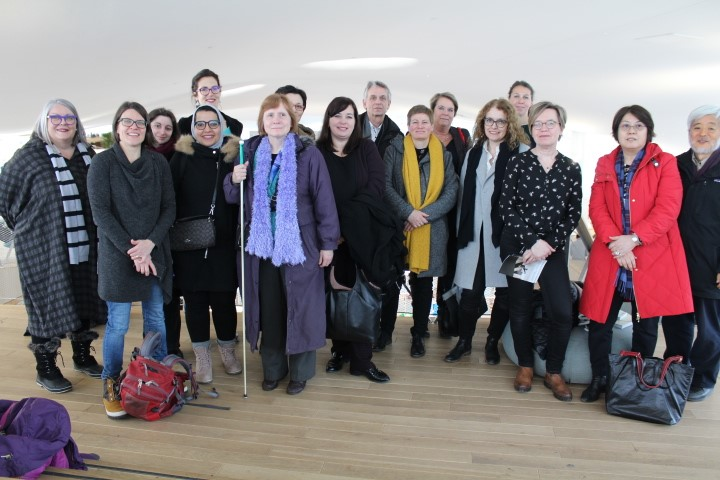person: (584, 98, 688, 421), (4, 93, 106, 390), (237, 95, 329, 398), (167, 105, 251, 393), (316, 92, 397, 390), (508, 99, 578, 400), (99, 103, 155, 399), (397, 104, 443, 361), (466, 95, 508, 365), (682, 103, 718, 404), (358, 77, 405, 134), (178, 65, 234, 108), (278, 83, 322, 122), (143, 106, 179, 150), (505, 78, 532, 127), (433, 94, 467, 132)
